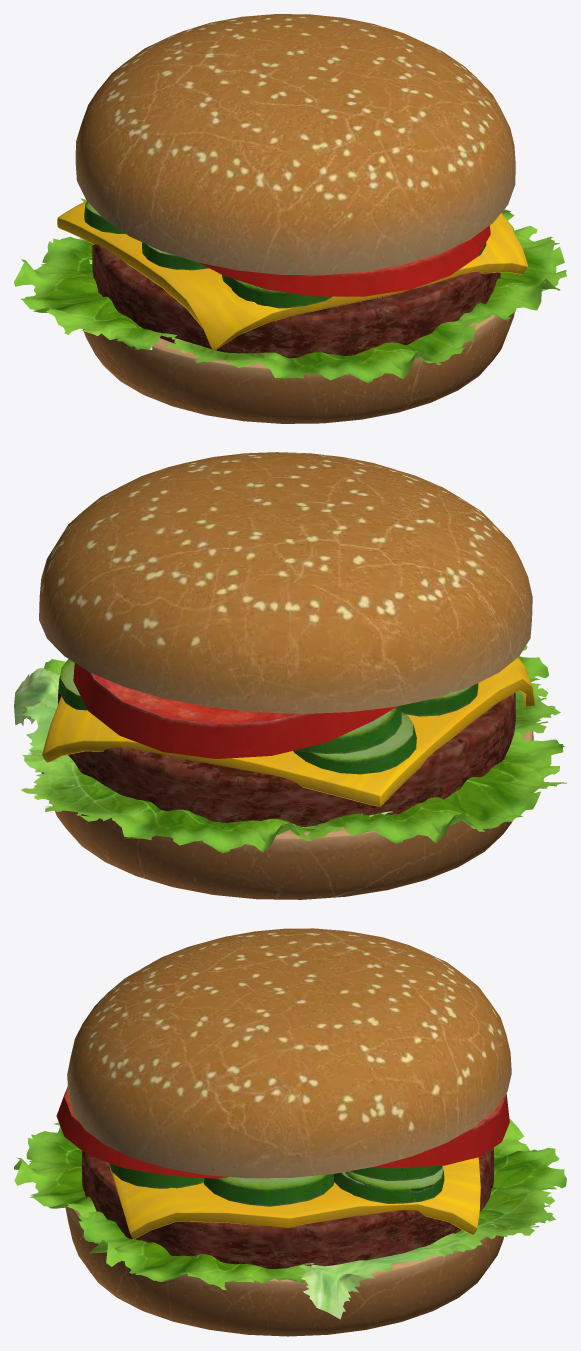
File: burger-transformed.glb
3 renders of one model, top to bottom at view 1: azimuth 30°, elevation 25°; view 2: azimuth 150°, elevation 25°; view 3: azimuth 270°, elevation 25°, orthographic. The views are drawn at different scales.
Visible parts, largest first — view 1: bun_bun.001_0, pPlane14_lettuce.001_0, vegeis_vegies.001_0; view 2: bun_bun.001_0, pPlane14_lettuce.001_0, vegeis_vegies.001_0; view 3: bun_bun.001_0, pPlane14_lettuce.001_0, vegeis_vegies.001_0.
Part boxes in pixels (left/top/right/bottom): bun_bun.001_0: left=57, top=14, right=527, bottom=423; pPlane14_lettuce.001_0: left=14, top=198, right=566, bottom=383; vegeis_vegies.001_0: left=84, top=201, right=490, bottom=308; bun_bun.001_0: left=39, top=452, right=534, bottom=899; pPlane14_lettuce.001_0: left=14, top=645, right=566, bottom=853; vegeis_vegies.001_0: left=59, top=659, right=478, bottom=774; bun_bun.001_0: left=65, top=928, right=511, bottom=1336; pPlane14_lettuce.001_0: left=14, top=1118, right=566, bottom=1319; vegeis_vegies.001_0: left=56, top=1086, right=509, bottom=1206.
Size of the model in its own units: 4.7 by 2.73 by 4.75.
3 materials, 3 textured.
